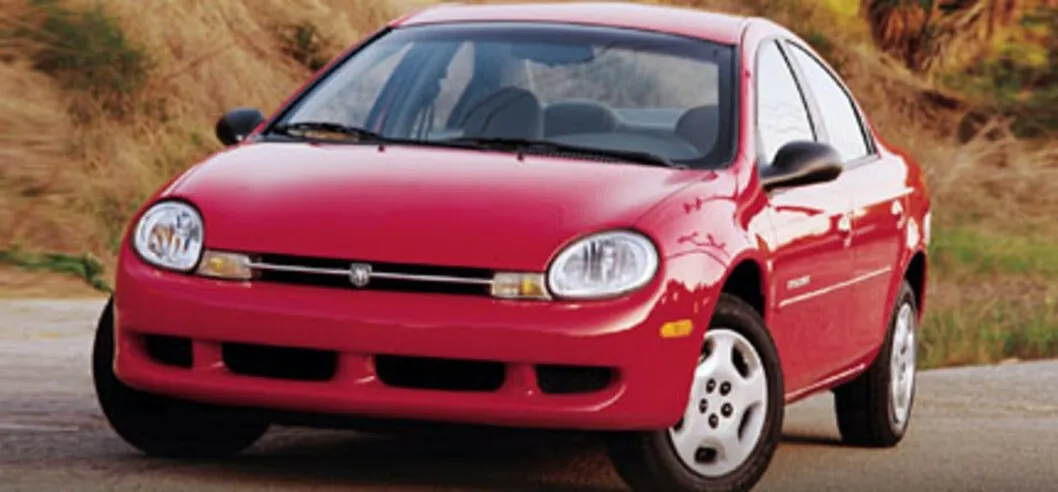car: (88, 3, 942, 490)
